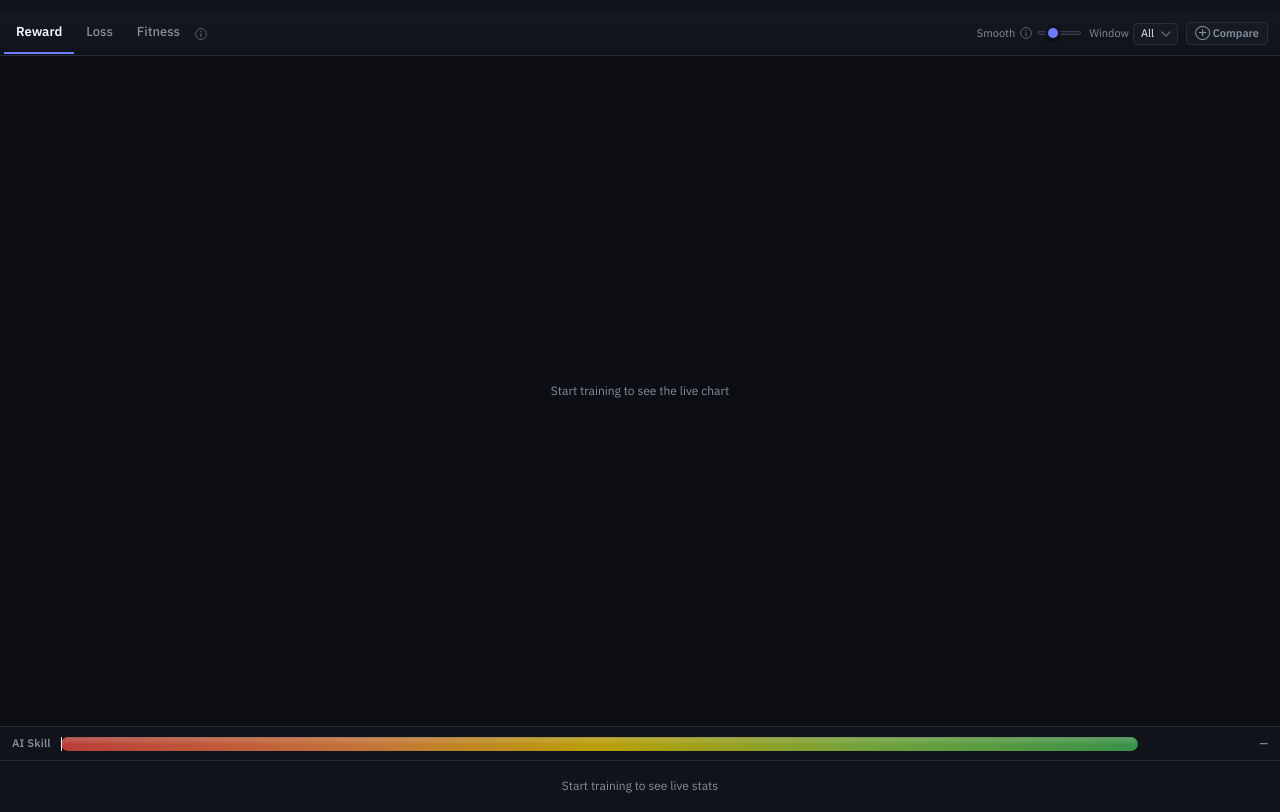
Test: <RewardChart /> › shows an algorithm-aware empty message per tab
The image size is (1280, 812).
expect the text "Start training to see the live chart" is shown: met, box [551, 383, 729, 398]
Click the button "Fitness": (158, 33) [125, 13, 192, 54]
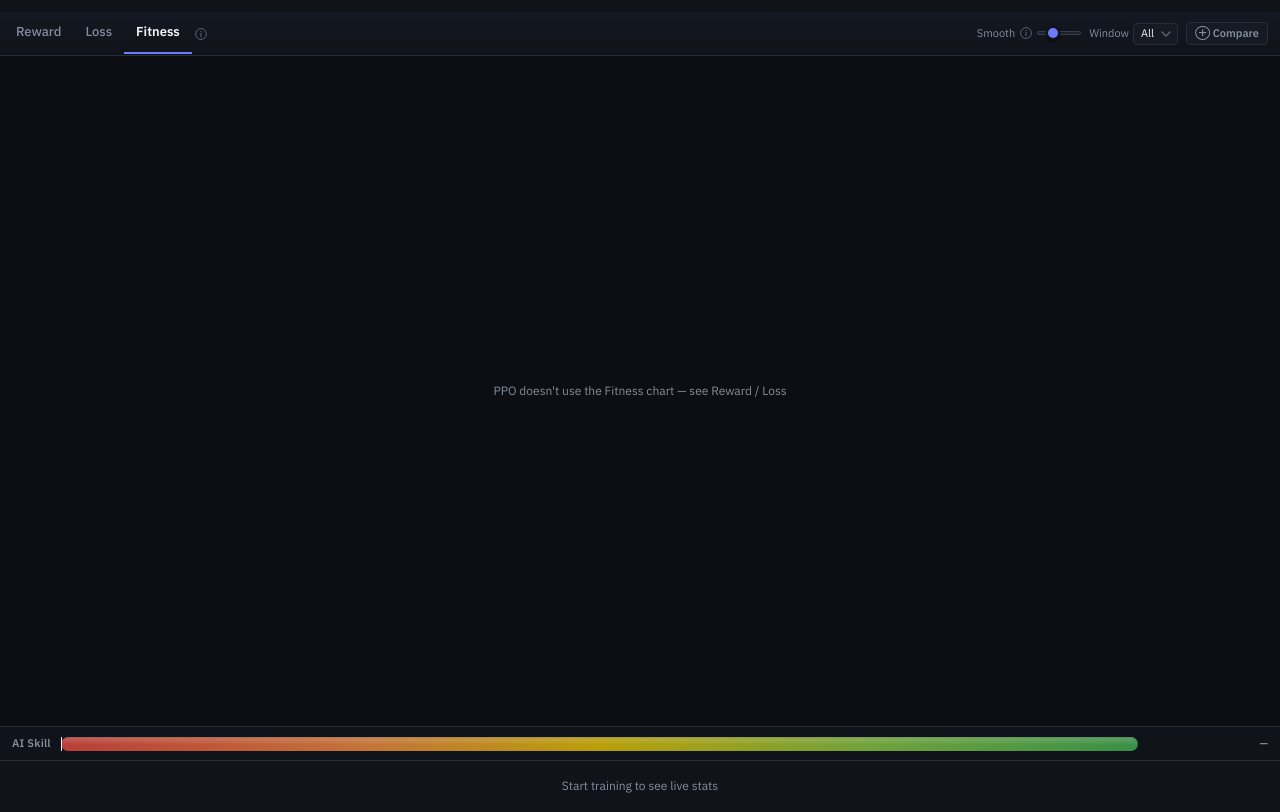
expect the text "PPO doesn't use the Fitness chart — see Reward / Loss" is shown: met, box [494, 383, 786, 398]
